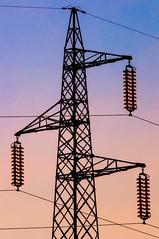power_tower: (11, 7, 152, 239)
